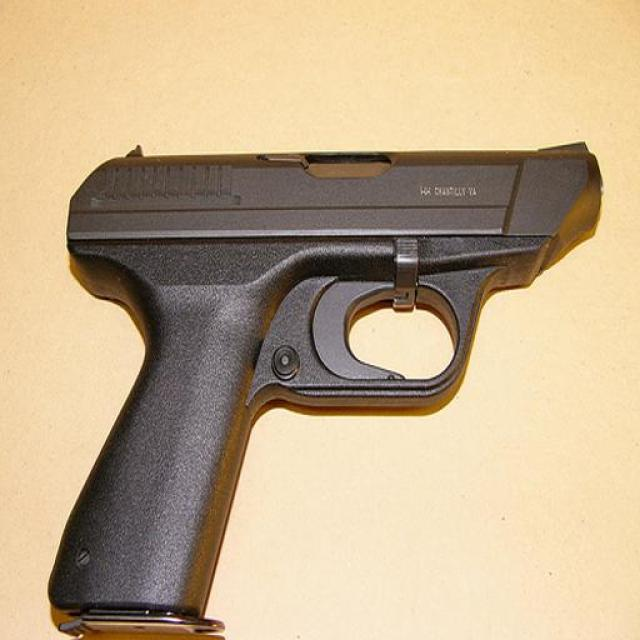pistol: (45, 139, 601, 631)
